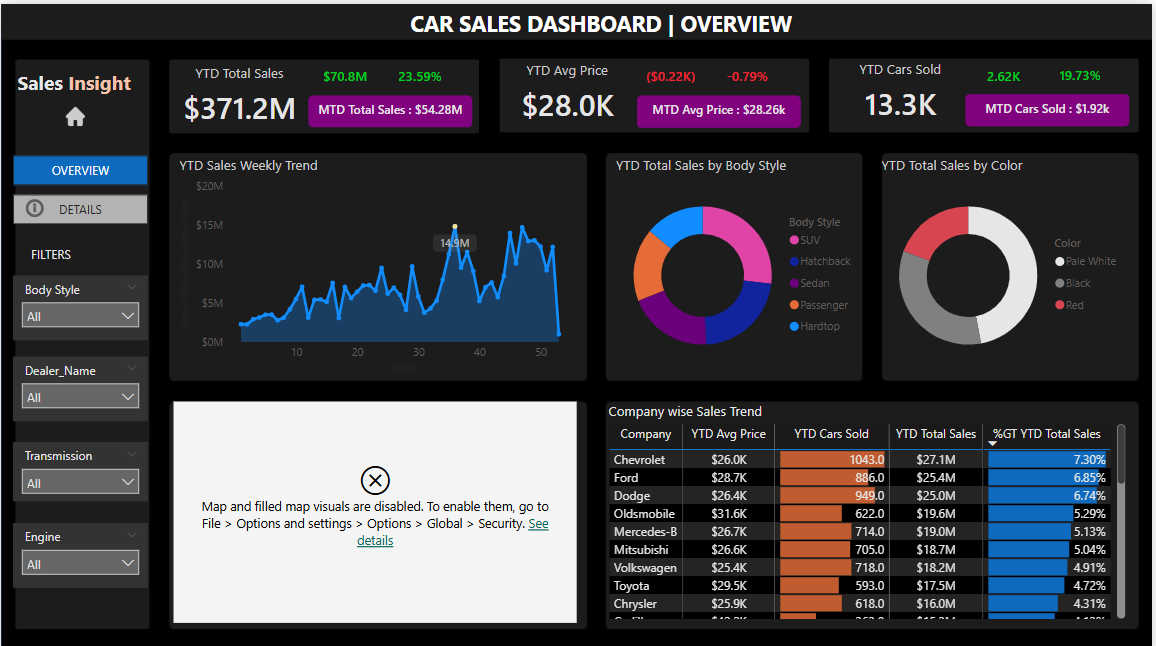

The dashboard page shown, as its layout file describes it:
{"tool":"powerbi","page":{"name":"OVERVIEW","canvas":[1280,720],"ordinal":0},"visuals":[{"type":"card","title":"YTD Total Sales","fields":{"Values":["car_data.YTD Total Sales"]},"box":[187.7,63.6,152.7,76.3],"z":0},{"type":"card","title":"YTD Total Sales","fields":{"Values":["car_data.Sales Difference"]},"box":[346.8,66.8,85.9,28.6],"z":1000},{"type":"card","title":"YTD Total Sales","fields":{"Values":["car_data.YoY Sales Growth"]},"box":[437.4,66.8,85.9,28.6],"z":2000},{"type":"card","fields":{"Values":["car_data.MTD KPI"]},"box":[343.6,103.4,186.1,35],"z":3000},{"type":"card","title":"YTD Avg Price","fields":{"Values":["car_data.YTD Avg Price"]},"box":[555.1,62,152.7,76.3],"z":4000},{"type":"card","title":"YTD Total Sales","fields":{"Values":["car_data.Avg Price Diff"]},"box":[707.8,62,85.9,28.6],"z":5000},{"type":"card","title":"YTD Total Sales","fields":{"Values":["car_data.YoY Avg Price Growth"]},"box":[793.7,62,85.9,28.6],"z":6000},{"type":"card","fields":{"Values":["car_data.MTD Avg Price KPI"]},"box":[707.8,100.2,186.1,35],"z":7000},{"type":"card","title":"YTD Cars Sold","fields":{"Values":["car_data.YTD Cars Sold"]},"box":[922.6,62,152.7,76.3],"z":8000},{"type":"card","title":"YTD Total Sales","fields":{"Values":["car_data.Cars Sold Diff"]},"box":[1075.3,62,85.9,28.6],"z":9000},{"type":"card","title":"YTD Total Sales","fields":{"Values":["car_data.YoY Cars Sold Growth"]},"box":[1161.1,62,85.9,28.6],"z":10000},{"type":"card","fields":{"Values":["car_data.MTD Cars Sold KPI"]},"box":[1075.3,101.8,186.1,35],"z":11000},{"type":"areaChart","title":"YTD Sales Weekly Trend ","fields":{"Category":["Calender Table.Week"],"Y":["Sum(car_data.Price ($))","car_data.Max Point"]},"box":[192.5,167,447,248.1],"z":12000},{"type":"donutChart","fields":{"Category":["car_data.Body Style"],"Y":["car_data.YTD Total Sales"]},"box":[672.8,167,279.9,248.1],"z":13000},{"type":"donutChart","fields":{"Y":["car_data.YTD Total Sales"],"Category":["car_data.Color"]},"box":[981.4,167,279.9,248.1],"z":14000},{"type":"map","fields":{"Category":["car_data.Dealer_Region"],"Size":["car_data.YTD Cars Sold"]},"box":[192.5,445.4,458.1,245],"z":15000},{"type":"tableEx","title":"Company wise Sales Trend","fields":{"Values":["car_data.Company","car_data.YTD Avg Price","car_data.YTD Cars Sold","car_data.YTD Total Sales","Divide(car_data.YTD Total Sales, ScopedEval(car_data.YTD Total Sales, []))"]},"box":[672.8,443.8,588.5,248.1],"z":16000},{"type":"textbox","box":[432.6,0,509,42.9],"z":16001},{"type":"slicer","fields":{"Values":["car_data.Body Style"]},"box":[17.5,322.9,143.2,73.2],"z":16002},{"type":"slicer","fields":{"Values":["car_data.Dealer_Name"]},"box":[17.5,415.1,143.2,73.2],"z":16003},{"type":"slicer","fields":{"Values":["car_data.Transmission"]},"box":[15.9,505.8,143.2,73.2],"z":16004},{"type":"slicer","fields":{"Values":["car_data.Engine"]},"box":[15.9,598.1,143.2,73.2],"z":16005},{"type":"textbox","box":[23.9,66.8,163.8,39.8],"z":16006},{"type":"textbox","box":[14.3,273.6,60.4,33.4],"z":16007},{"type":"slicer","fields":{"Values":["car_data.Body Style"]},"box":[12.7,322.9,143.2,73.2],"z":16008},{"type":"pageNavigator","box":[14.3,157.5,155.9,105],"z":16009},{"type":"image","box":[65.2,111.3,42.9,28.6],"z":16010}]}

Visuals, with their boxes in screenshot pixels (x1, y1, x2, y2), scaled from the page's 1280x720 canvas onto the 1156x646 screenshot:
"YTD Total Sales" card: box(170, 57, 307, 126)
"YTD Total Sales" card: box(313, 60, 391, 86)
"YTD Total Sales" card: box(395, 60, 473, 86)
card - car_data.MTD KPI: box(310, 93, 478, 124)
"YTD Avg Price" card: box(501, 56, 639, 124)
"YTD Total Sales" card: box(639, 56, 717, 81)
"YTD Total Sales" card: box(717, 56, 794, 81)
card - car_data.MTD Avg Price KPI: box(639, 90, 807, 121)
"YTD Cars Sold" card: box(833, 56, 971, 124)
"YTD Total Sales" card: box(971, 56, 1049, 81)
"YTD Total Sales" card: box(1049, 56, 1126, 81)
card - car_data.MTD Cars Sold KPI: box(971, 91, 1139, 123)
"YTD Sales Weekly Trend " areaChart: box(174, 150, 578, 372)
donutChart - car_data.Body Style x car_data.YTD Total Sales: box(608, 150, 860, 372)
donutChart - car_data.YTD Total Sales x car_data.Color: box(886, 150, 1139, 372)
map - car_data.Dealer_Region x car_data.YTD Cars Sold: box(174, 400, 588, 619)
"Company wise Sales Trend" tableEx: box(608, 398, 1139, 621)
textbox: box(391, 0, 850, 38)
slicer - car_data.Body Style: box(16, 290, 145, 355)
slicer - car_data.Dealer_Name: box(16, 372, 145, 438)
slicer - car_data.Transmission: box(14, 454, 144, 519)
slicer - car_data.Engine: box(14, 537, 144, 602)
textbox: box(22, 60, 170, 96)
textbox: box(13, 245, 67, 275)
slicer - car_data.Body Style: box(11, 290, 141, 355)
pageNavigator: box(13, 141, 154, 236)
image: box(59, 100, 98, 126)
